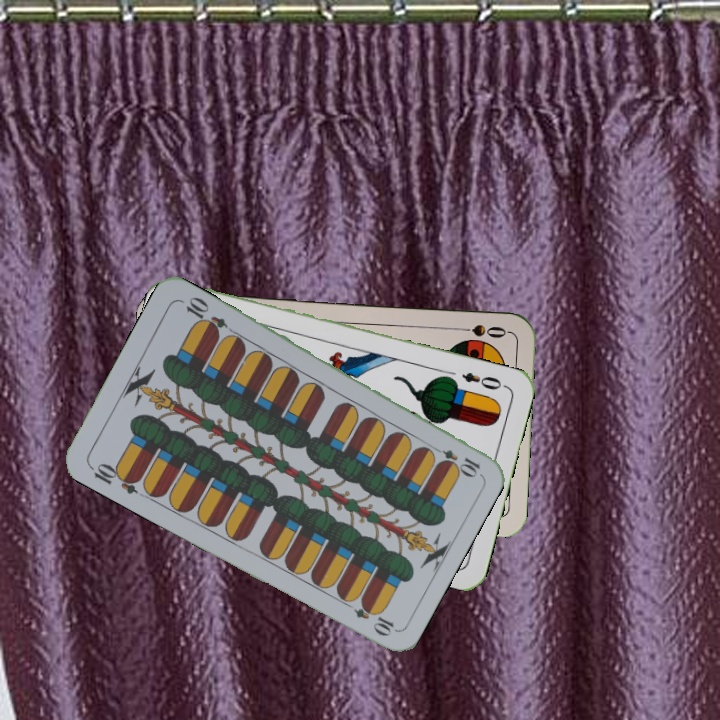E10: (85, 458, 143, 497), (426, 441, 483, 478)
EO: (458, 368, 509, 393)
SO: (451, 320, 510, 341)
